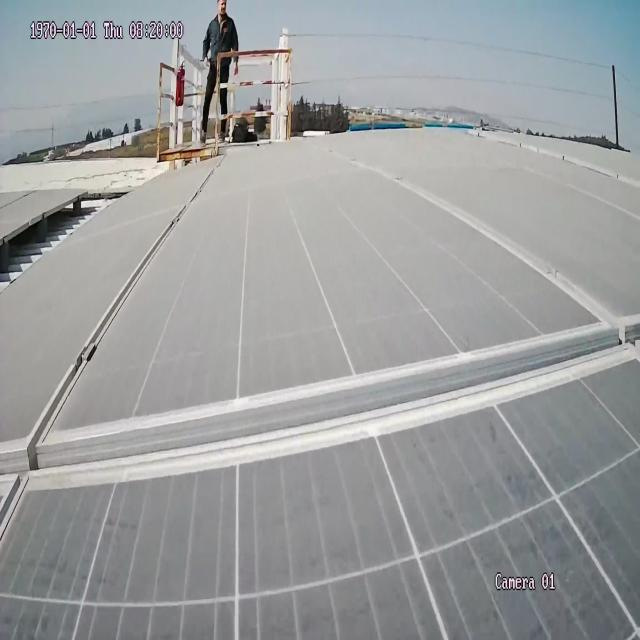outher panel: (0, 183, 143, 291)
